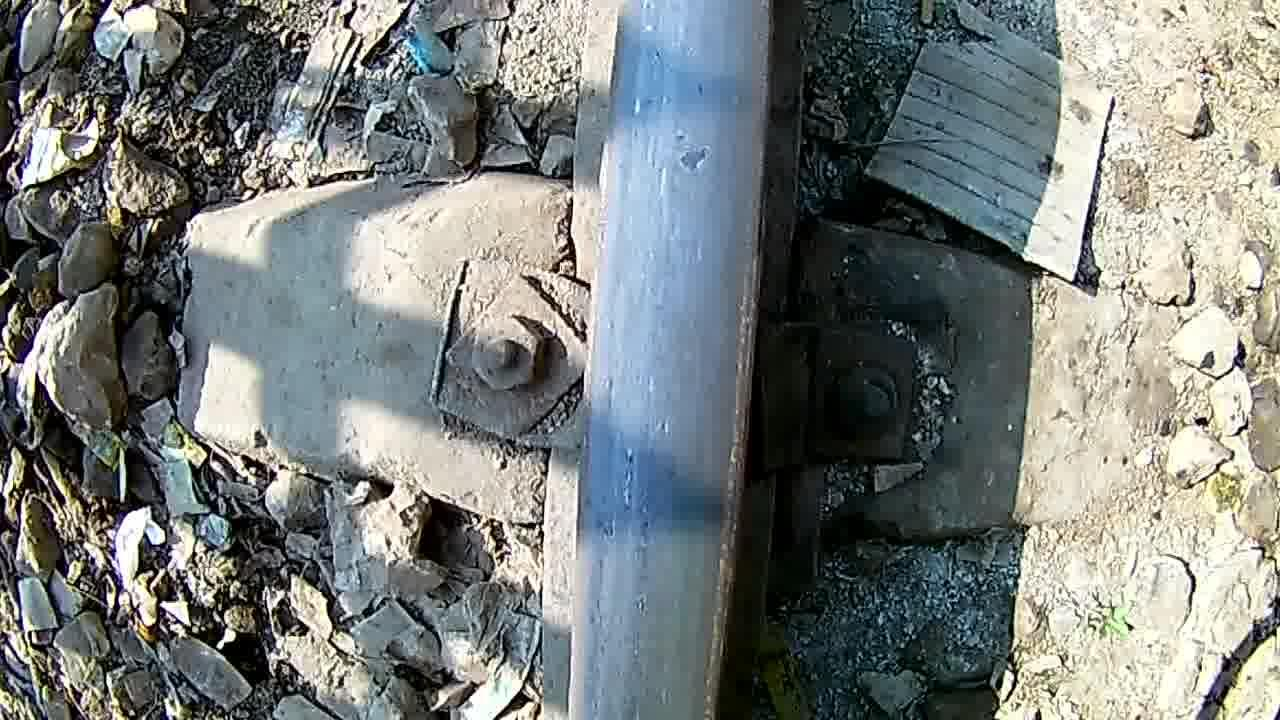crack: (630, 63, 751, 219)
